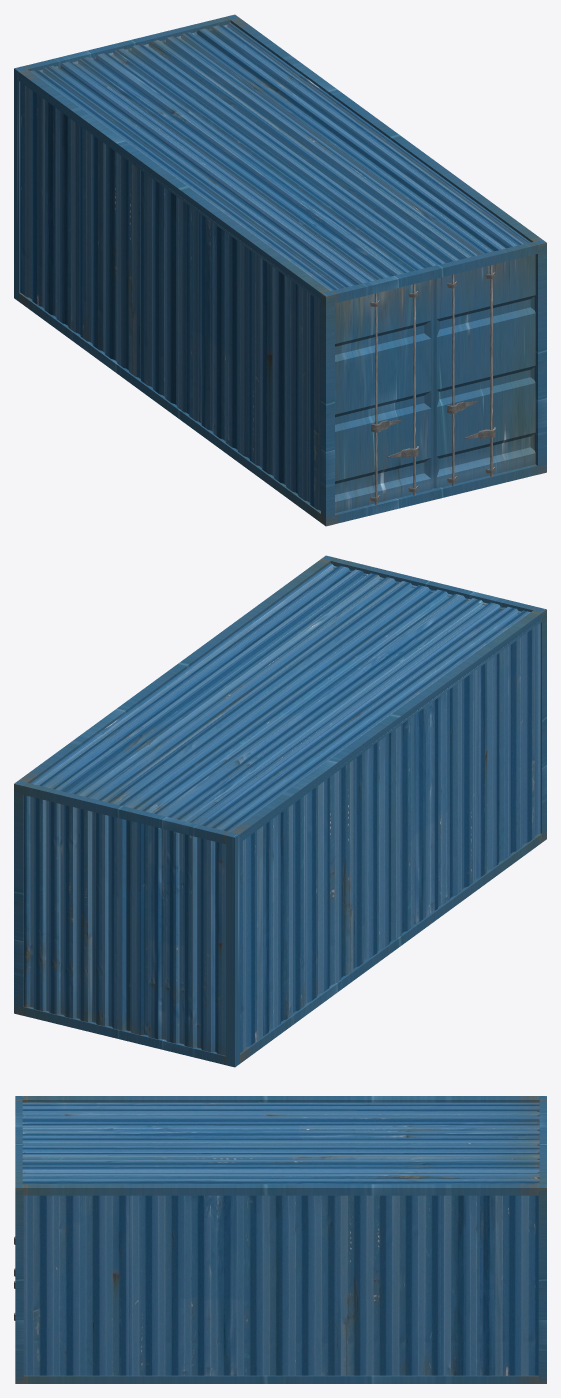
File: container.fbx
The picture shows the model from 3 angles, top to bottom: view 1: azimuth 30°, elevation 25°; view 2: azimuth 150°, elevation 25°; view 3: azimuth 270°, elevation 25°; orthographic projection. The views are drawn at different scales.
Parts seen in each view (by area): view 1: polySurface4; view 2: polySurface4; view 3: polySurface4.
Boxes of the visible parts, box(x1,y1,x2,y2) form: polySurface4: box(14, 14, 546, 526); polySurface4: box(14, 555, 546, 1067); polySurface4: box(14, 1096, 546, 1383).
Size of the model in its own units: 9.43 by 9.37 by 23.11.
Materials: 4 (3 with a texture image).
